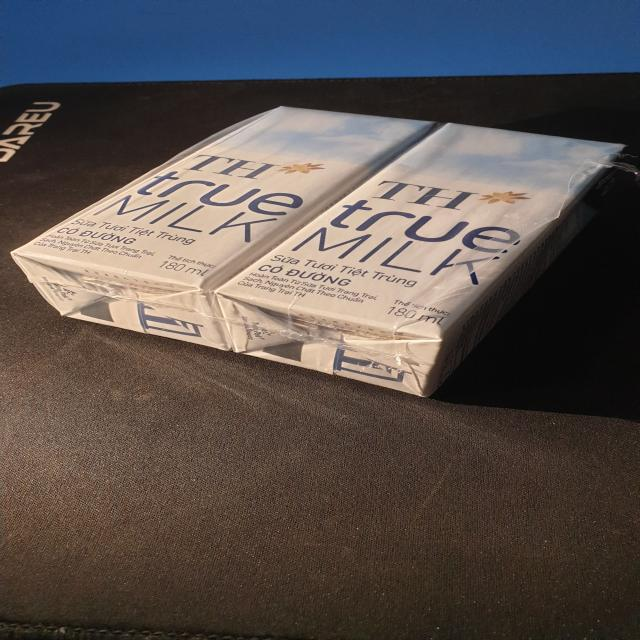TH: (213, 122, 630, 396), (7, 106, 437, 353)
